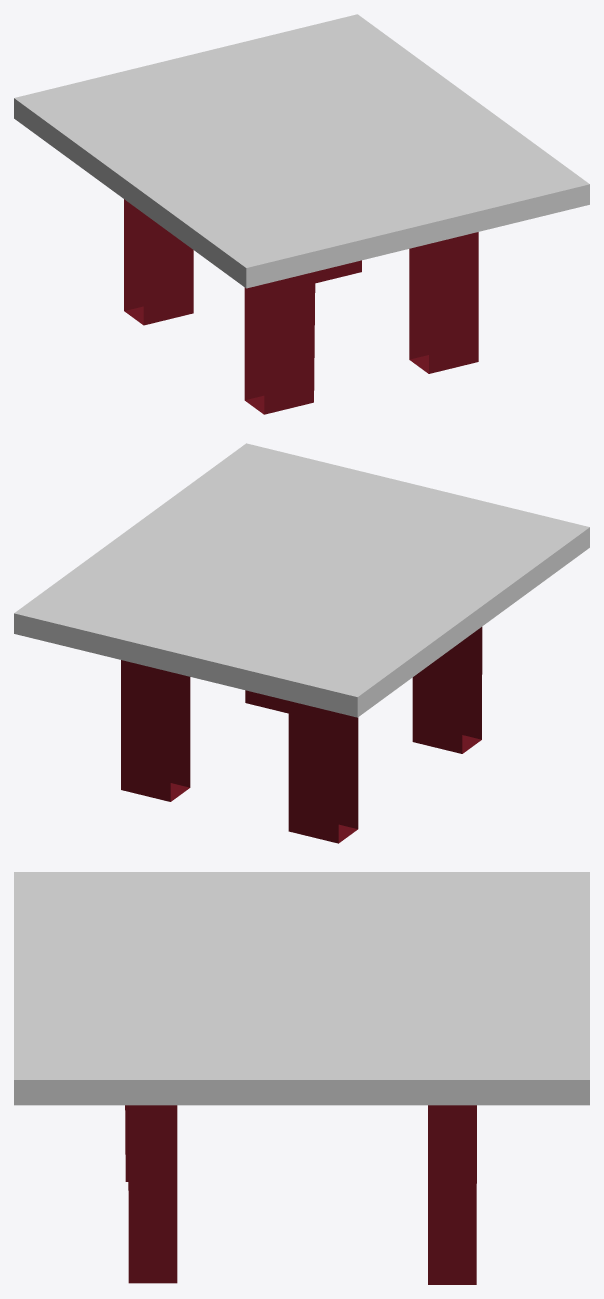
File: table.glb
3 renders of one model, top to bottom at view 1: azimuth 30°, elevation 25°; view 2: azimuth 150°, elevation 25°; view 3: azimuth 270°, elevation 25°, orthographic. The views are drawn at different scales.
Visible parts, largest first — view 1: Cube; view 2: Cube; view 3: Cube.
Boxes of the visible parts, box(x1,y1,x2,y2) form: Cube: box(14, 14, 589, 414); Cube: box(14, 443, 589, 843); Cube: box(14, 872, 589, 1284).
Bounding box in the file's own units: 4.14 × 2.25 × 4.84.
